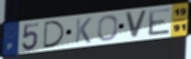5: (21, 21, 41, 51)
D: (43, 19, 66, 50)
E: (148, 7, 173, 38)
K: (74, 17, 94, 45)
O: (96, 14, 119, 42)
V: (124, 9, 149, 39)
